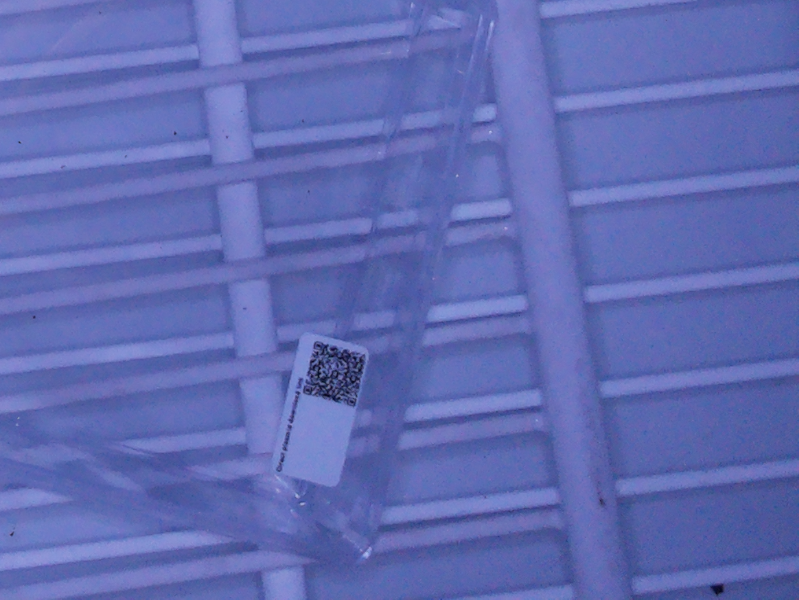plate: (1, 1, 502, 569)
